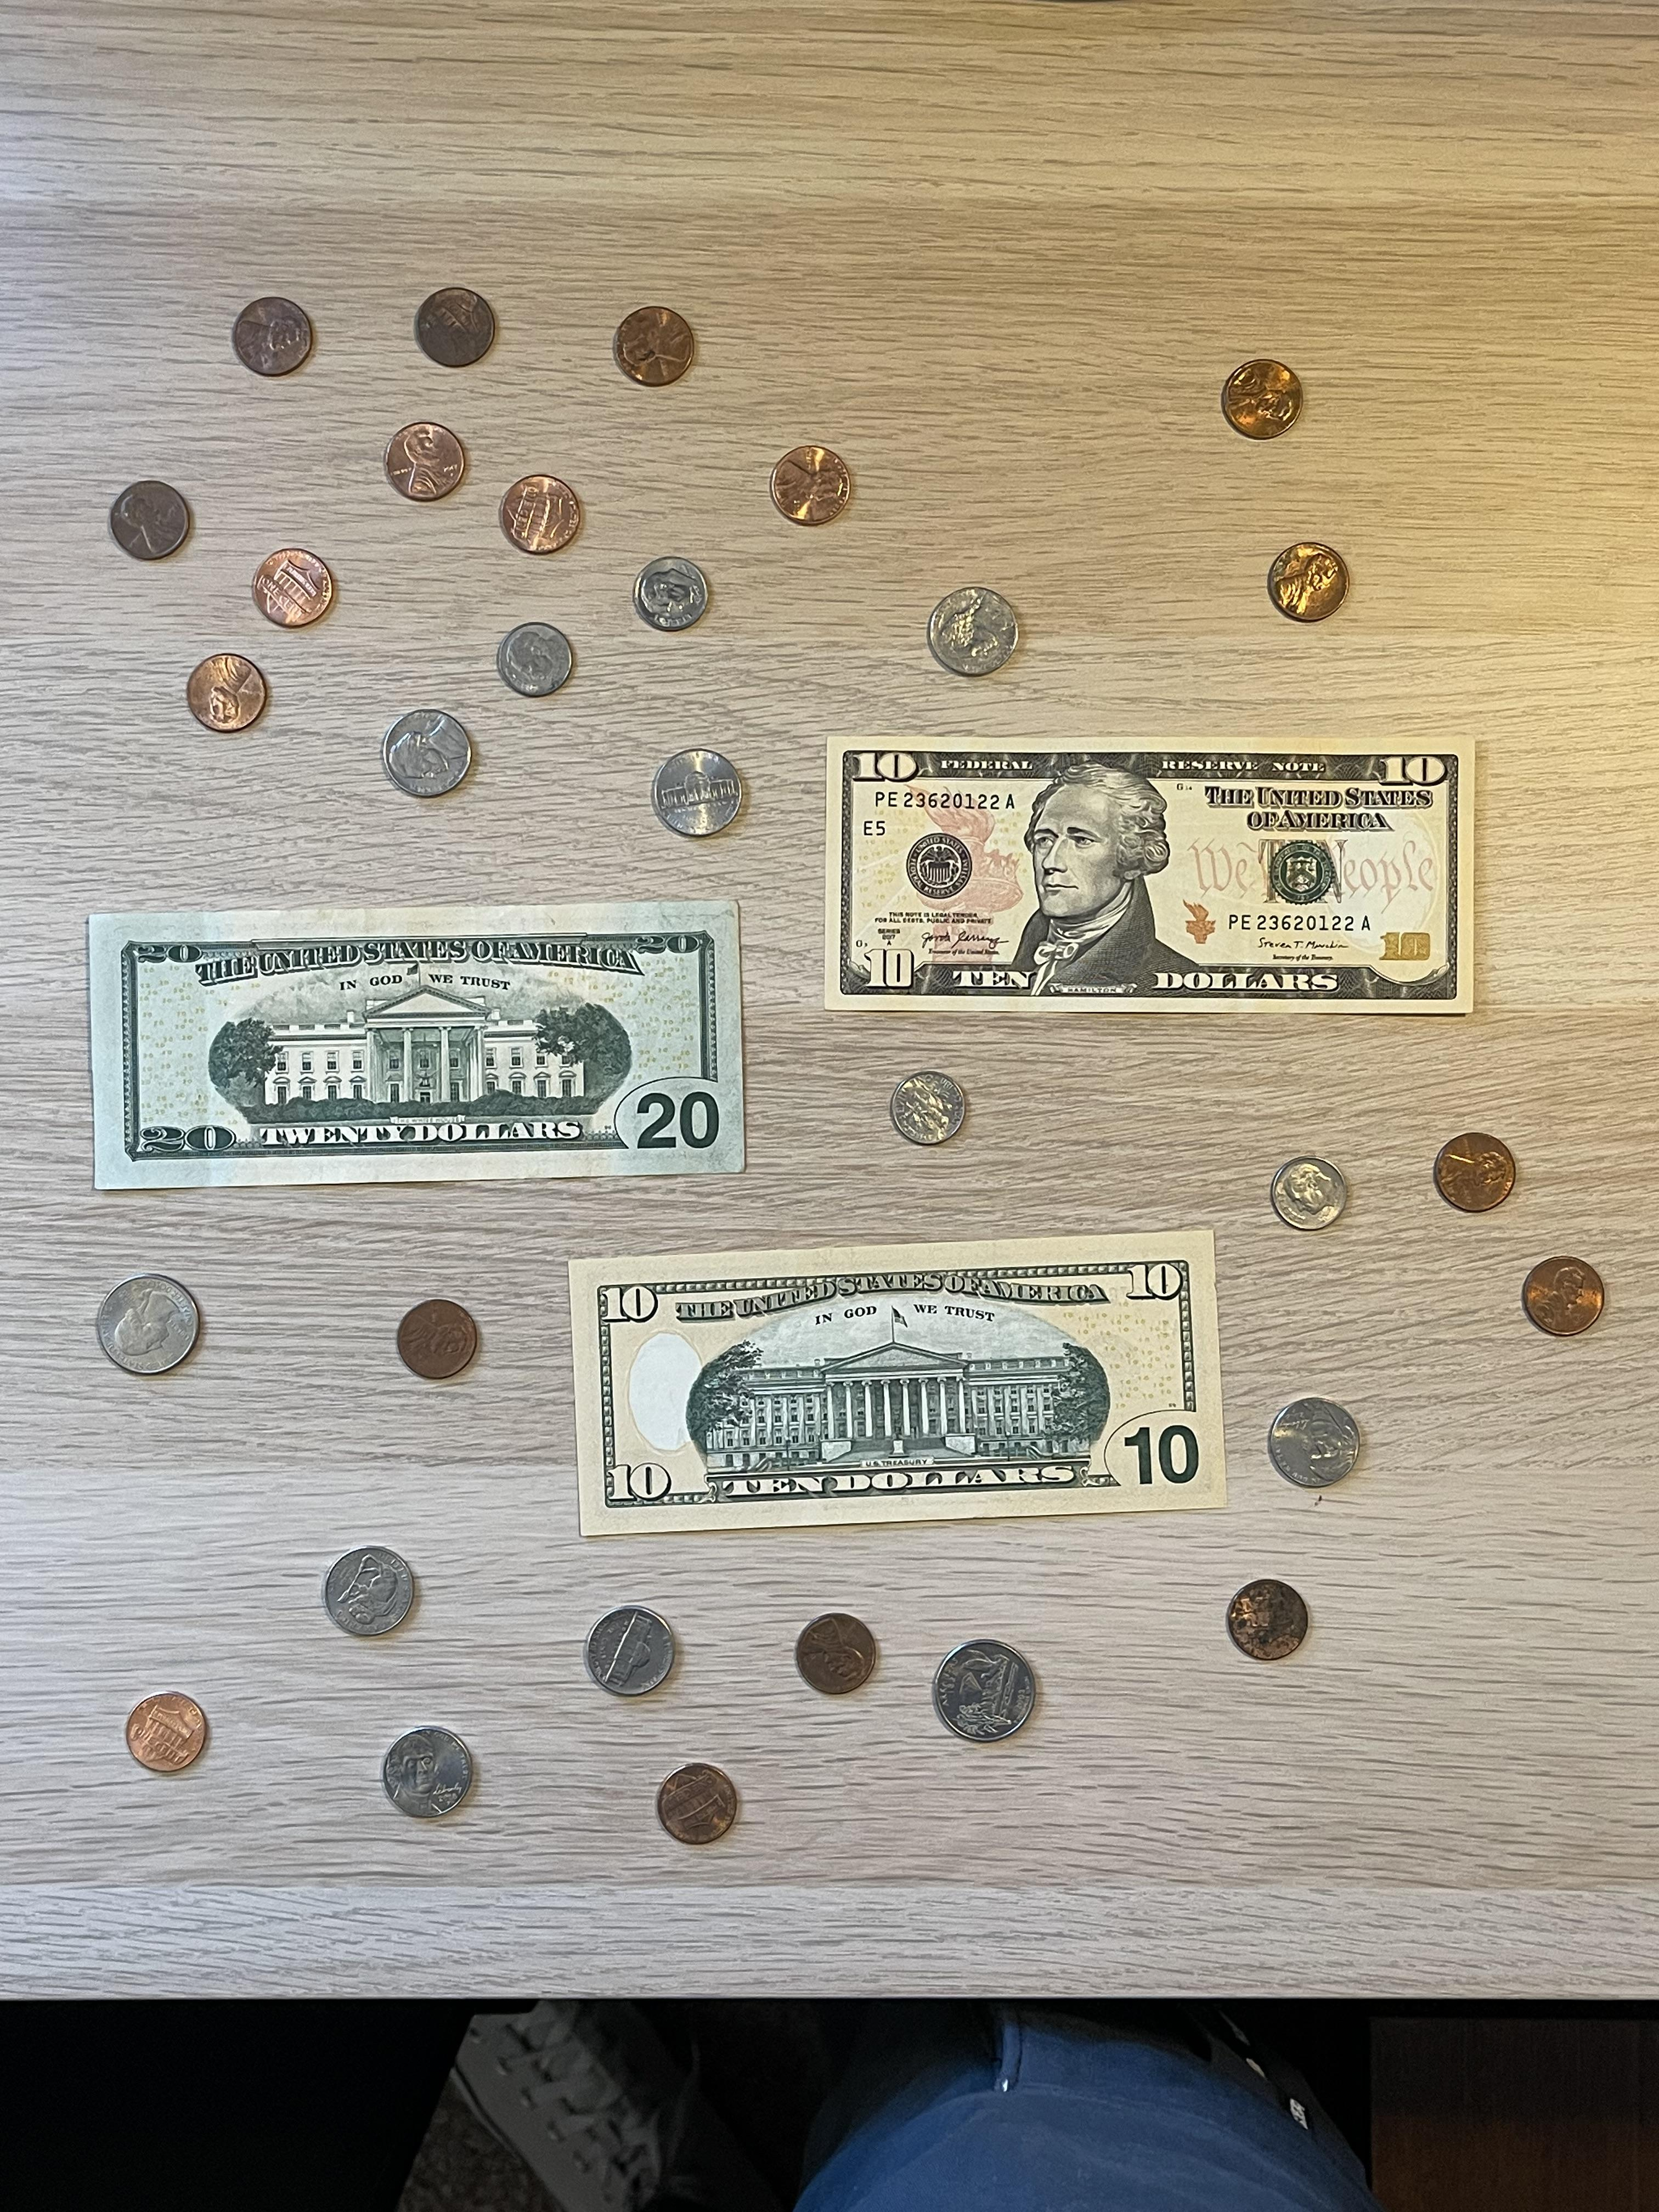Dime: (495, 620, 572, 698), (631, 556, 708, 632), (1270, 1155, 1347, 1231), (889, 1071, 965, 1144)
Nickel: (321, 1545, 415, 1639), (582, 1604, 676, 1696), (380, 1726, 474, 1818), (1267, 1395, 1361, 1487), (650, 747, 742, 838), (380, 707, 472, 798), (927, 585, 1018, 676)
Penny: (612, 305, 695, 388), (1432, 1130, 1516, 1214), (125, 1689, 207, 1775), (1267, 542, 1351, 624), (1220, 357, 1302, 441), (397, 1298, 479, 1381), (795, 1611, 877, 1695), (657, 1761, 737, 1846), (413, 286, 495, 368), (769, 444, 850, 526), (498, 474, 580, 556), (185, 651, 267, 733), (1521, 1256, 1605, 1336), (1225, 1580, 1309, 1660), (385, 421, 465, 503), (251, 549, 333, 629), (110, 481, 190, 563), (232, 296, 312, 376)
Quarter: (96, 1273, 200, 1376), (934, 1639, 1037, 1742)
TenBill: (566, 1228, 1229, 1540), (823, 732, 1478, 1017)
TwentyBill: (85, 897, 746, 1193)
